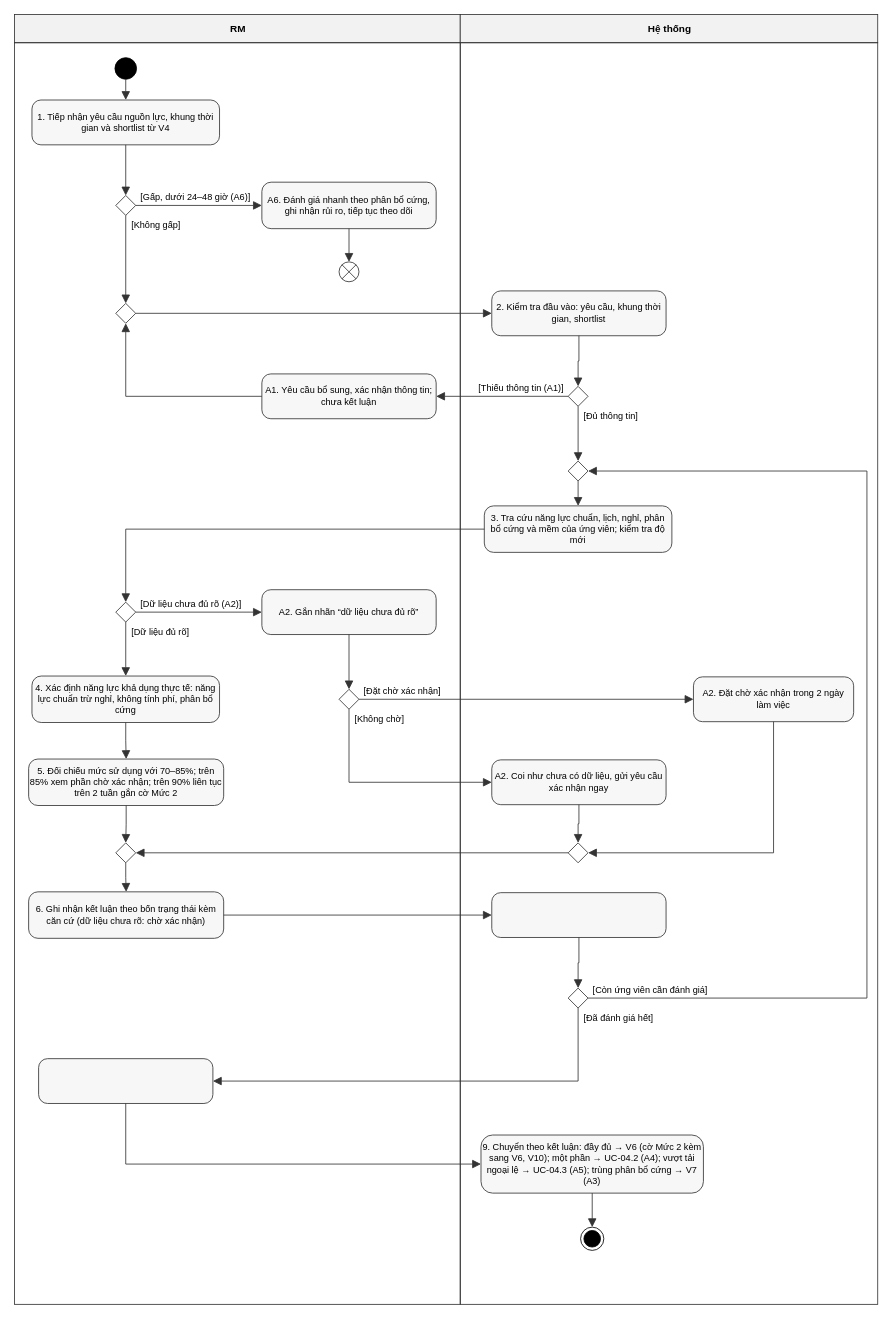
Image size: 892x1319. Some labels were removed from this diagram. The centre of each missing label's shape, as x and y in pixels:
"7. Lưu kết luận và căn cứ của ứng viên" goes at [578,914].
"8. Tổng hợp kết luận của từng ứng viên, bàn giao" goes at [125,1080].
